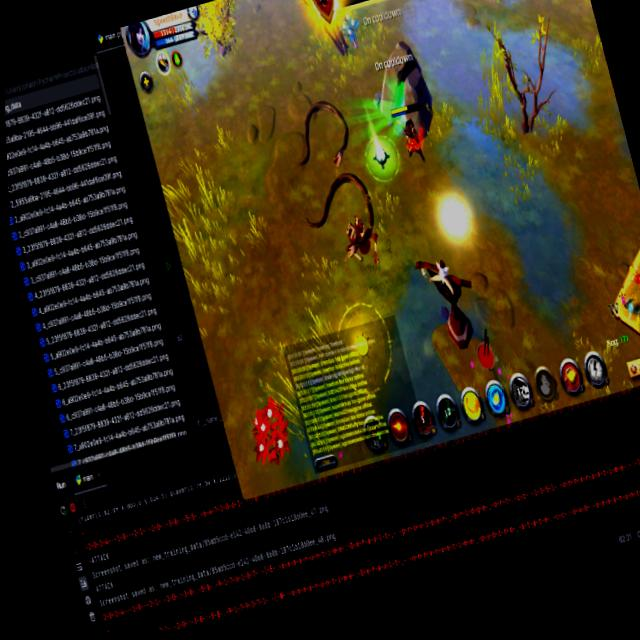hide: (238, 389, 300, 475), (333, 7, 365, 60)
red: (386, 94, 436, 171)
